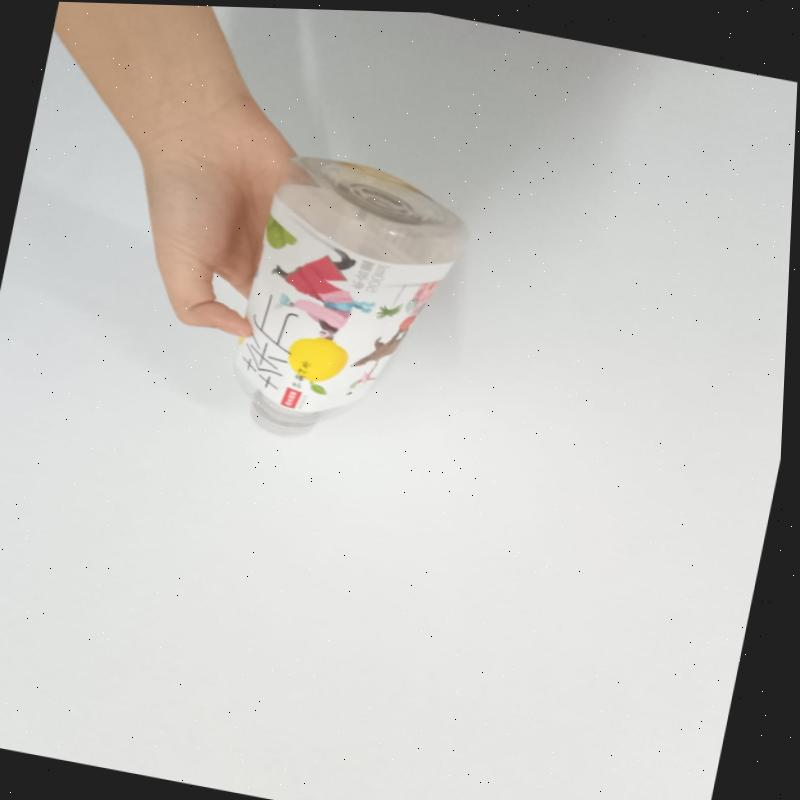botella: (219, 143, 478, 465)
